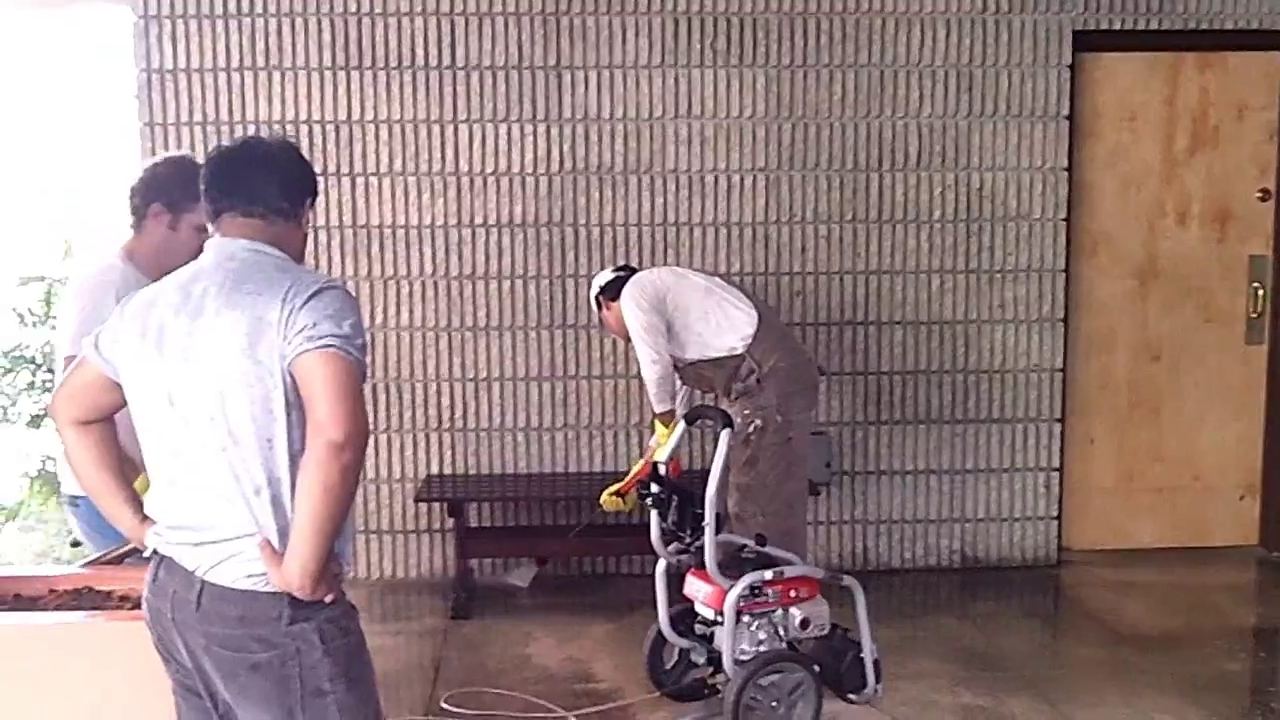person: (48, 137, 383, 720), (590, 264, 821, 562), (60, 153, 214, 561)
